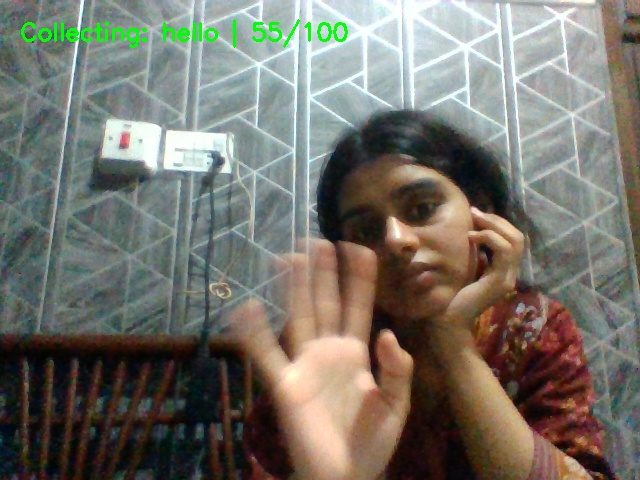hello: (228, 229, 417, 473)
